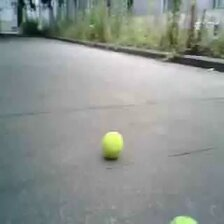tennis: (101, 130, 122, 159)
